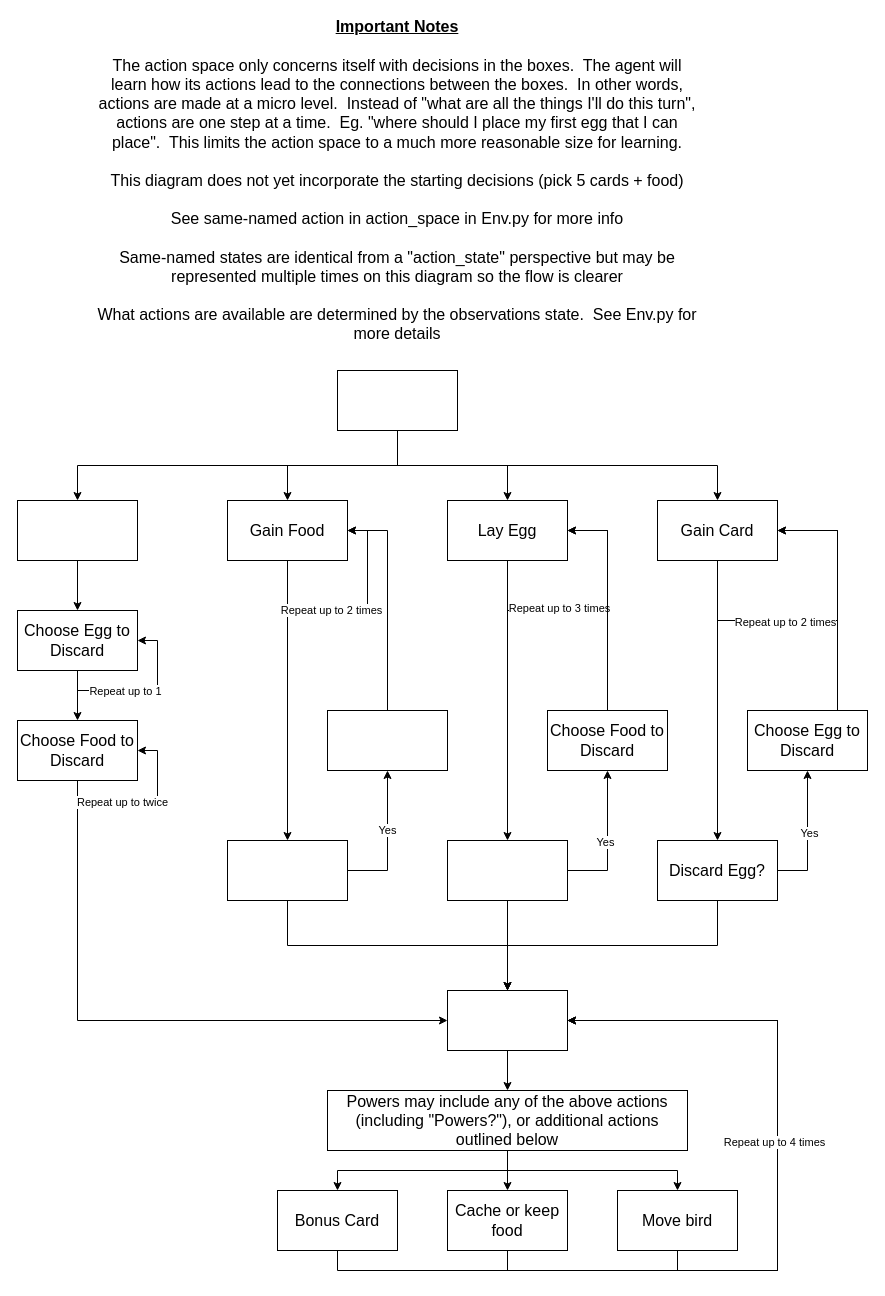
Image size: 885x1296. Some labels were removed from this diagram. Here are the shapes that lost their labels. From the top down, the centre of each, then its label:
At [397,400]: "Start".
At [77,530]: "Play Bird".
At [387,740]: "Choose Card to Discard".
At [287,870]: "Discard Card?".
At [507,870]: "Discard Food?".
At [507,1020]: "Powers?".
